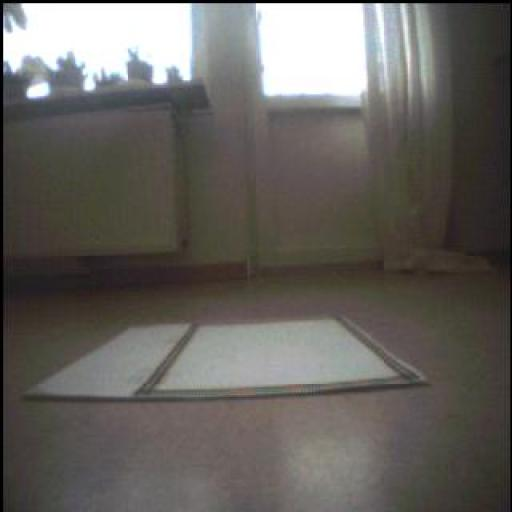Pad: (51, 322, 436, 384)
